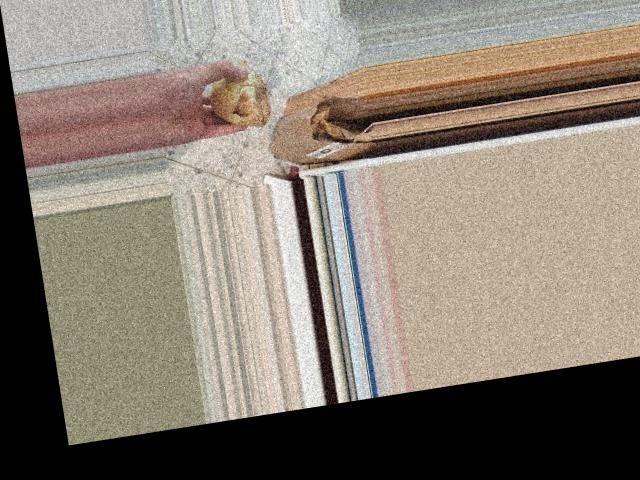onion: (202, 60, 275, 134)
